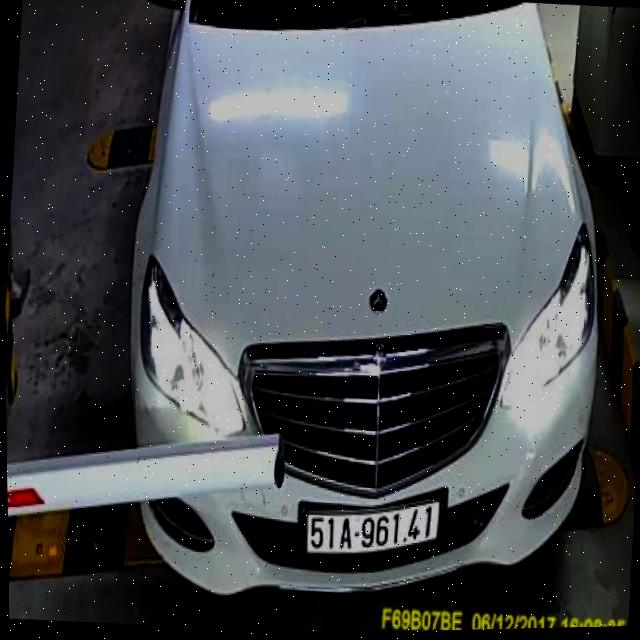car: (94, 0, 630, 622)
plate: (292, 493, 449, 564)
